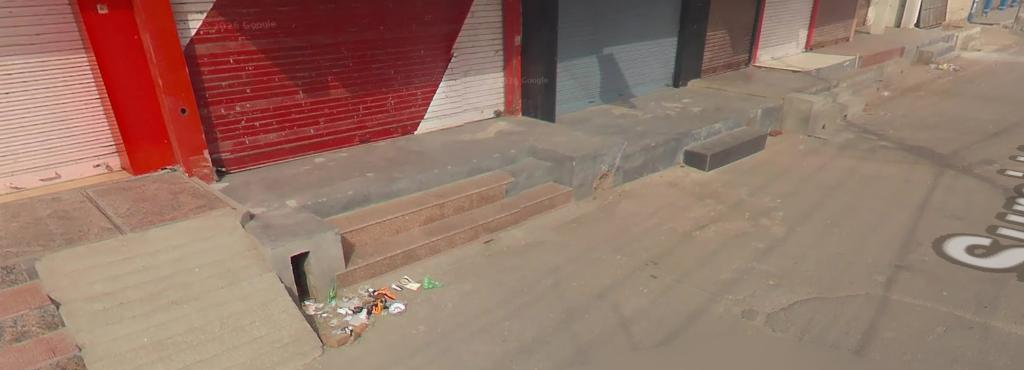garbage: (338, 310, 375, 331), (396, 271, 421, 297), (419, 273, 444, 294), (389, 299, 409, 318)
